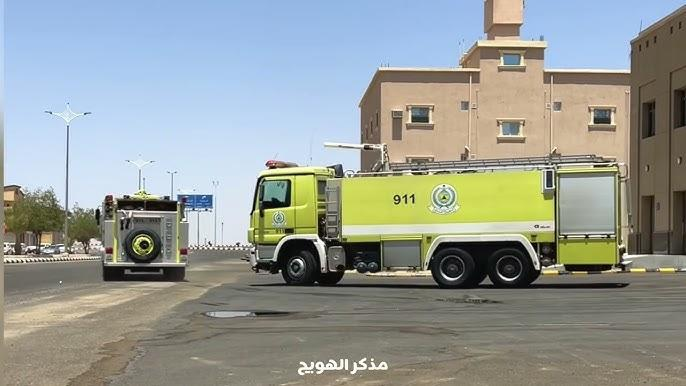firetruck_off: (242, 158, 631, 284), (98, 189, 190, 284)
